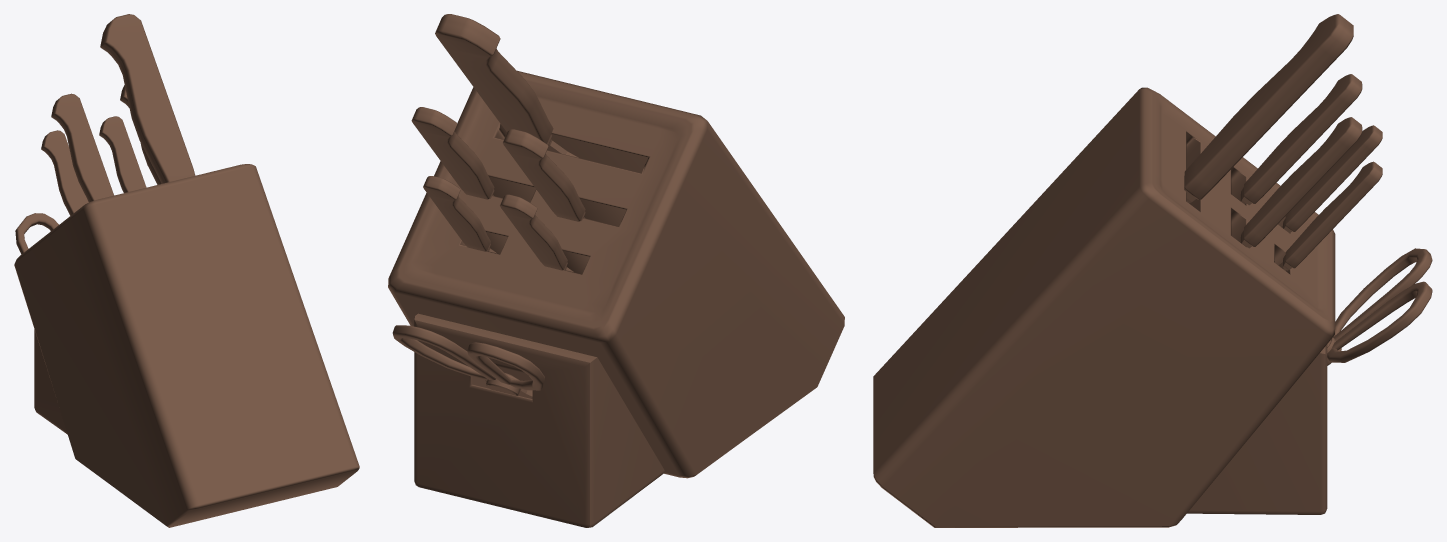
The model's file is knife_block.fbx.
3 renders of one model, left to right at view 1: azimuth 30°, elevation 25°; view 2: azimuth 150°, elevation 25°; view 3: azimuth 270°, elevation 25°, orthographic. The views are drawn at different scales.
Parts seen in each view (by area): view 1: polySurface6209; view 2: polySurface6209; view 3: polySurface6209.
Boxes of the visible parts, x1=… form: polySurface6209: x1=14, y1=14, x2=359, y2=527; polySurface6209: x1=388, y1=14, x2=844, y2=527; polySurface6209: x1=873, y1=14, x2=1432, y2=527.
Bounding box in the file's own units: 0.19 × 0.3891 × 0.4162.
